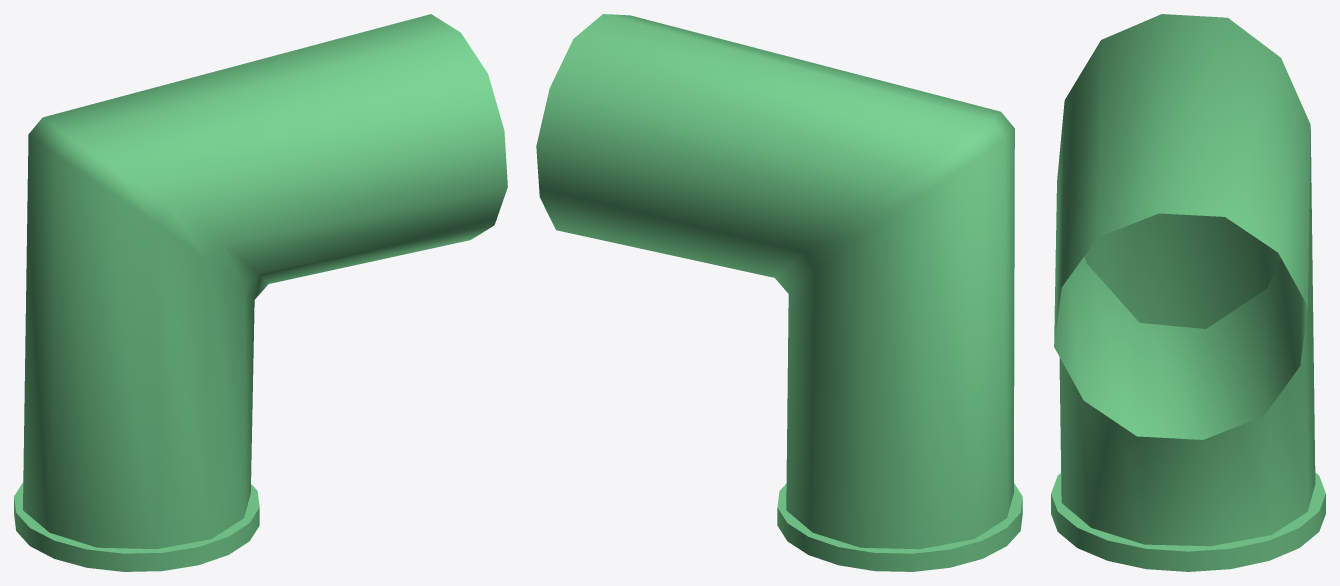
File: Pipe_Thick_Bend90.fbx
3 renders of one model, left to right at view 1: azimuth 30°, elevation 25°; view 2: azimuth 150°, elevation 25°; view 3: azimuth 270°, elevation 25°, orthographic. The views are drawn at different scales.
Visible parts, largest first — view 1: Pipe_Thick_Bend90; view 2: Pipe_Thick_Bend90; view 3: Pipe_Thick_Bend90.
Part boxes in pixels (x1,y1,x2,y2): Pipe_Thick_Bend90: (14, 14, 507, 571); Pipe_Thick_Bend90: (536, 14, 1022, 571); Pipe_Thick_Bend90: (1051, 14, 1325, 571).
Bounding box in the file's own units: 538 × 518 × 275.
